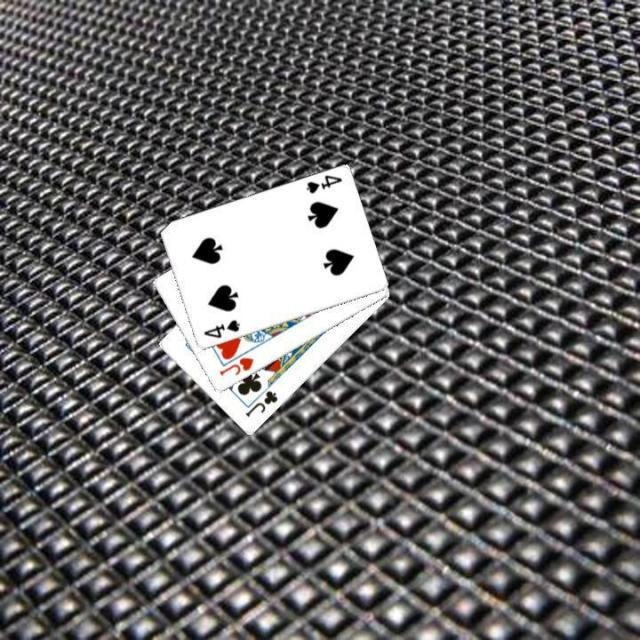4S: (199, 317, 241, 341), (302, 172, 344, 196)
JC: (241, 387, 280, 419)
JH: (215, 354, 255, 378)
